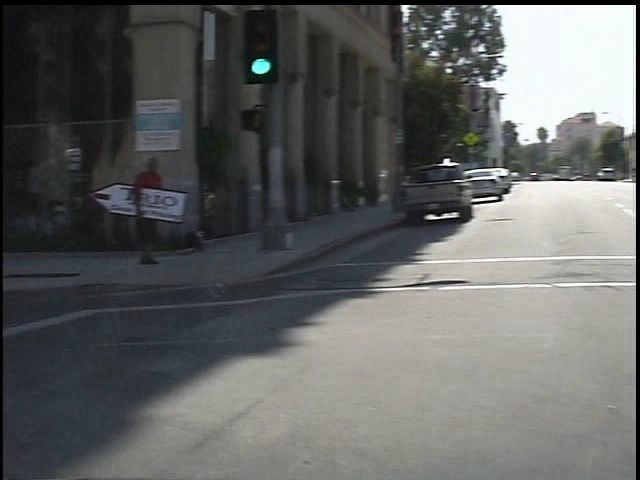person: (122, 155, 162, 274)
